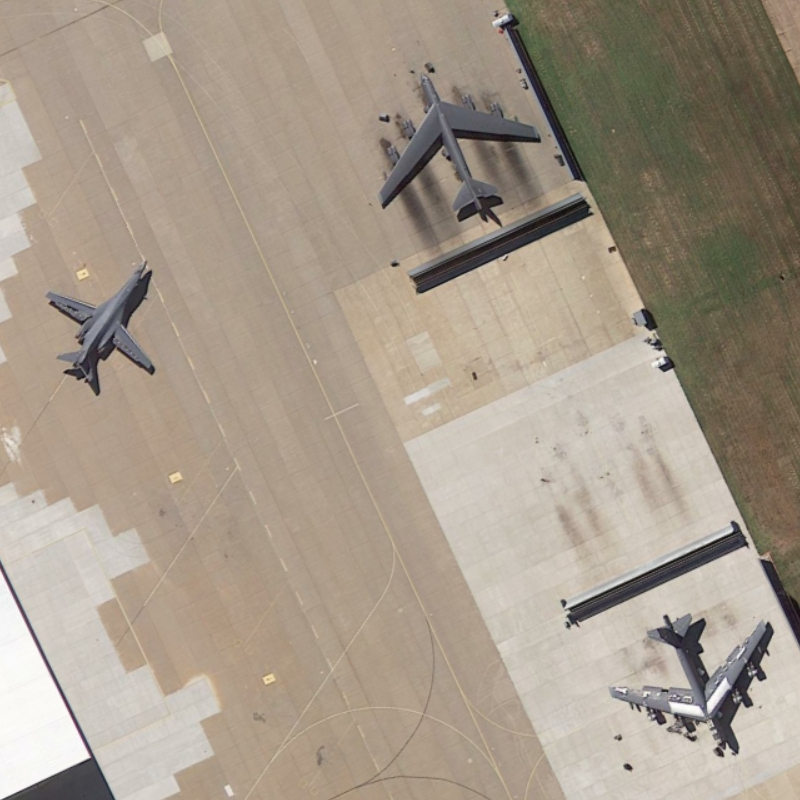A10: (43, 256, 171, 393)
A8: (603, 605, 781, 766), (373, 63, 543, 221)
